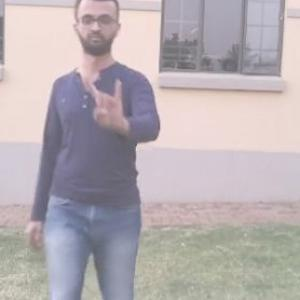takeoff-hand: (84, 71, 128, 130)
